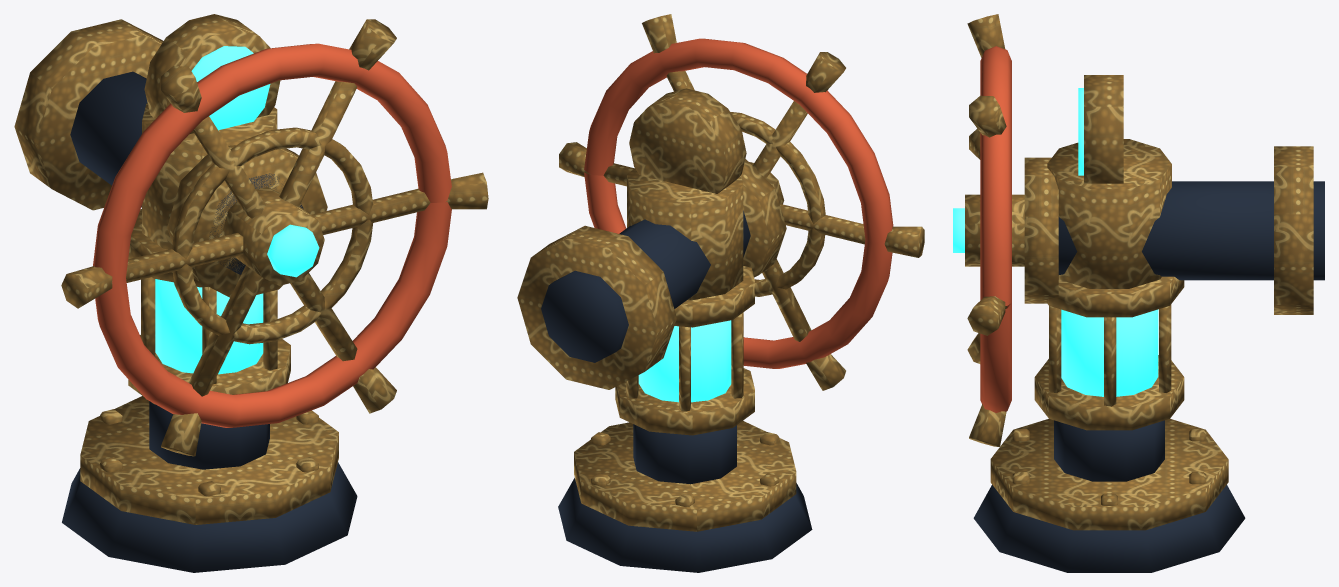
The model's file is pipe_valve.glb.
3 views of the same model, side by side, from view 1: azimuth 30°, elevation 25°; view 2: azimuth 150°, elevation 25°; view 3: azimuth 270°, elevation 25° (orthographic). The views are drawn at different scales.
Parts seen in each view (by area): view 1: valve_body, valve_wheel, valve_sight_core; view 2: valve_body, valve_wheel, valve_sight_core; view 3: valve_body, valve_wheel, valve_sight_core.
Part boxes in pixels (x1,y1,x2,y2): valve_body: (14, 14, 357, 572); valve_wheel: (61, 19, 488, 456); valve_sight_core: (155, 46, 270, 374); valve_body: (517, 88, 812, 572); valve_wheel: (559, 14, 924, 390); valve_sight_core: (638, 320, 731, 402); valve_body: (973, 75, 1324, 572); valve_wheel: (953, 14, 1024, 446); valve_sight_core: (1061, 88, 1158, 396).
Size of the model in its own units: 0.7661 by 0.901 by 0.656.
Materials: 4 (1 with a texture image).
